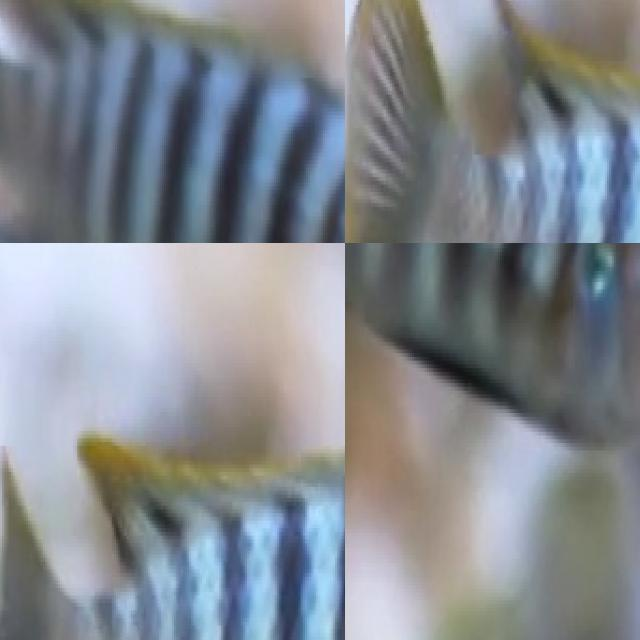fish: (0, 386, 345, 640), (0, 0, 345, 243), (345, 243, 640, 506)
